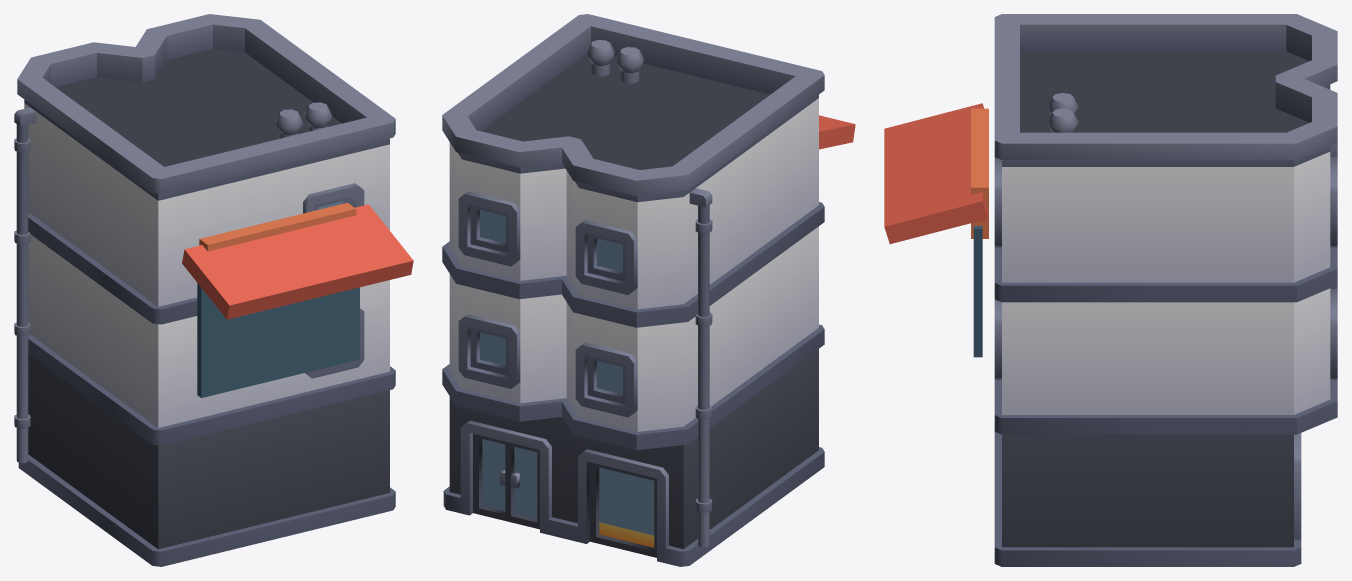
File: corner-shop-market.glb
The picture shows the model from 3 angles, left to right: view 1: azimuth 30°, elevation 25°; view 2: azimuth 150°, elevation 25°; view 3: azimuth 270°, elevation 25°; orthographic projection. The views are drawn at different scales.
Parts seen in each view (by area): view 1: building-a, Striped_Awning, Storefront_Glass, Storefront_Sign; view 2: building-a, Striped_Awning; view 3: building-a, Striped_Awning, Storefront_Sign, Storefront_Glass.
Part boxes in pixels (x1,y1,x2,y2): building-a: [14, 14, 395, 566]; Striped_Awning: [182, 204, 413, 319]; Storefront_Glass: [197, 283, 359, 397]; Storefront_Sign: [199, 202, 356, 251]; building-a: [442, 14, 824, 566]; Striped_Awning: [819, 115, 855, 149]; building-a: [994, 14, 1337, 566]; Striped_Awning: [884, 103, 987, 244]; Storefront_Sign: [971, 108, 988, 238]; Storefront_Glass: [973, 226, 982, 357].
Size of the model in its own units: 0.8836 by 1.29 by 1.24.
5 materials, 1 textured.
